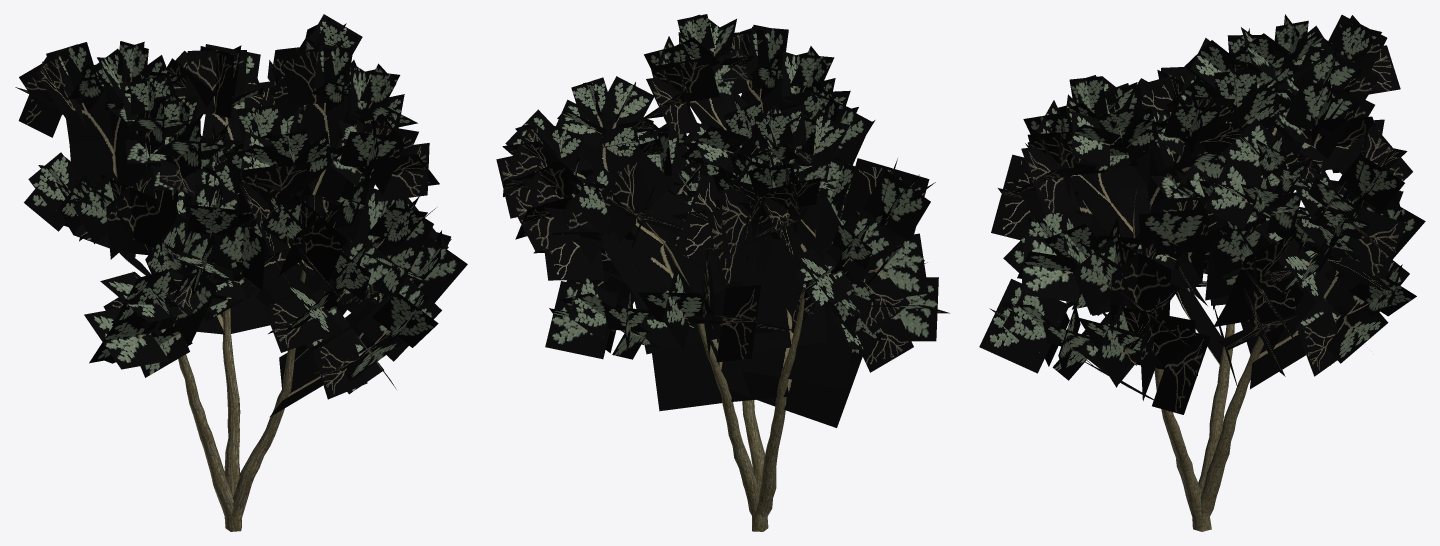
File: whitePoplar1.glb
3 renders of one model, left to right at view 1: azimuth 30°, elevation 25°; view 2: azimuth 150°, elevation 25°; view 3: azimuth 270°, elevation 25°, orthographic. The views are drawn at different scales.
Parts seen in each view (by area): view 1: foliage.015, structure.015; view 2: foliage.015, structure.015; view 3: foliage.015, structure.015.
Boxes of the visible parts, bbox=[...] form: foliage.015: bbox=[15, 14, 467, 417]; structure.015: bbox=[144, 188, 314, 531]; foliage.015: bbox=[496, 14, 949, 427]; structure.015: bbox=[646, 222, 815, 531]; foliage.015: bbox=[979, 14, 1425, 414]; structure.015: bbox=[1132, 193, 1263, 531].
Size of the model in its own units: 6.01 by 7.34 by 6.2.
Materials: 2 (2 with a texture image).
